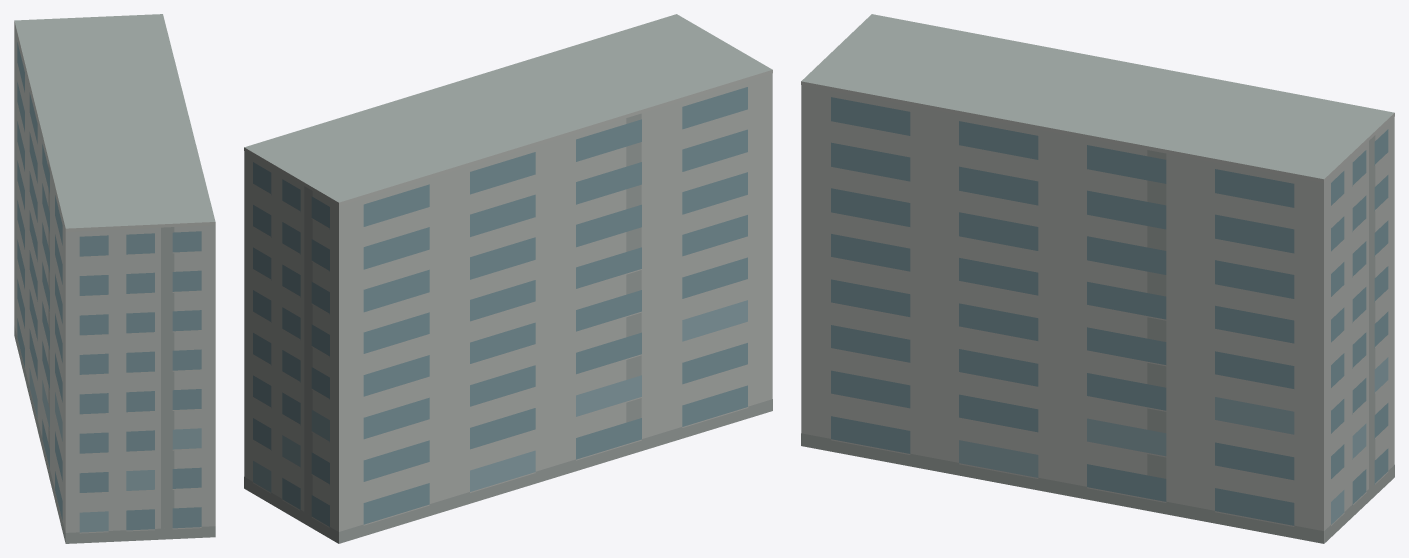
The model's file is survey-upis-32897933.glb.
The picture shows the model from 3 angles, left to right: view 1: azimuth 30°, elevation 25°; view 2: azimuth 150°, elevation 25°; view 3: azimuth 270°, elevation 25°; orthographic projection. The views are drawn at different scales.
Parts seen in each view (by area): view 1: survey-upis-32897933.tmp; view 2: survey-upis-32897933.tmp; view 3: survey-upis-32897933.tmp.
Boxes of the visible parts, <box> form: survey-upis-32897933.tmp: <box>14,14,215,543</box>; survey-upis-32897933.tmp: <box>244,14,772,543</box>; survey-upis-32897933.tmp: <box>801,14,1394,543</box>.
Size of the model in its own units: 22.8 by 23.45 by 34.61.
